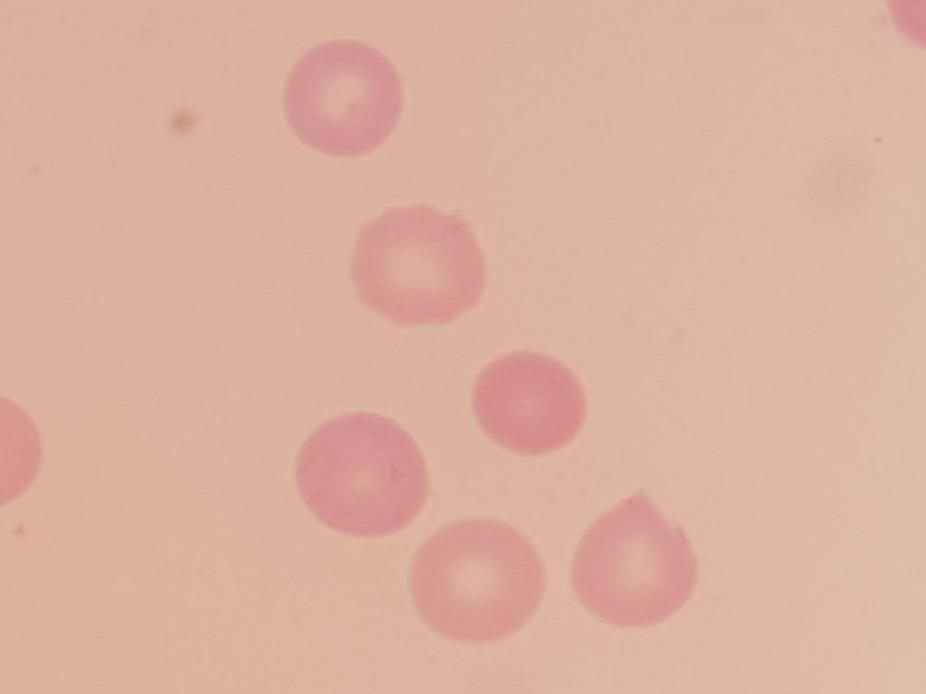Uninfected: (570, 489, 700, 635), (353, 199, 489, 328), (413, 516, 546, 645), (295, 416, 429, 538), (285, 42, 403, 158), (472, 349, 587, 456)
